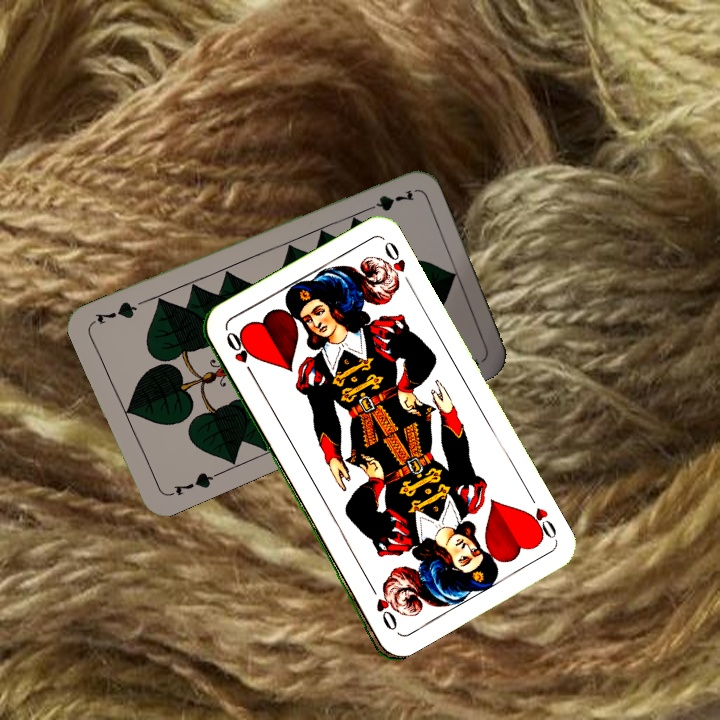G7: (358, 185, 415, 216), (164, 468, 220, 499)
HO: (222, 327, 258, 381), (520, 503, 560, 544)
